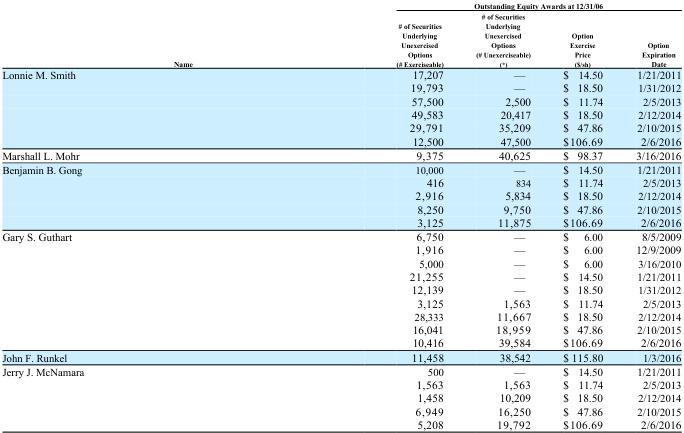table: (1, 1, 680, 430)
table column: (1, 1, 293, 430), (293, 1, 459, 430), (459, 1, 546, 430), (546, 1, 618, 430), (618, 1, 680, 430)
table column header: (1, 1, 680, 67)
table row: (1, 10, 680, 67), (1, 147, 680, 162), (1, 67, 680, 81), (1, 120, 680, 134), (1, 175, 680, 189), (1, 215, 680, 229), (1, 229, 680, 243), (1, 282, 680, 296), (1, 335, 680, 349), (1, 349, 680, 363), (1, 363, 680, 377), (1, 390, 680, 404), (1, 81, 680, 94), (1, 94, 680, 107), (1, 107, 680, 120), (1, 134, 680, 147), (1, 162, 680, 175), (1, 189, 680, 202), (1, 202, 680, 215), (1, 243, 680, 256), (1, 256, 680, 269), (1, 269, 680, 282), (1, 296, 680, 309), (1, 309, 680, 322), (1, 322, 680, 335), (1, 377, 680, 390), (1, 404, 680, 417), (1, 417, 680, 430), (1, 1, 680, 10)
table spanning cell: (1, 1, 293, 67), (293, 1, 680, 10)
